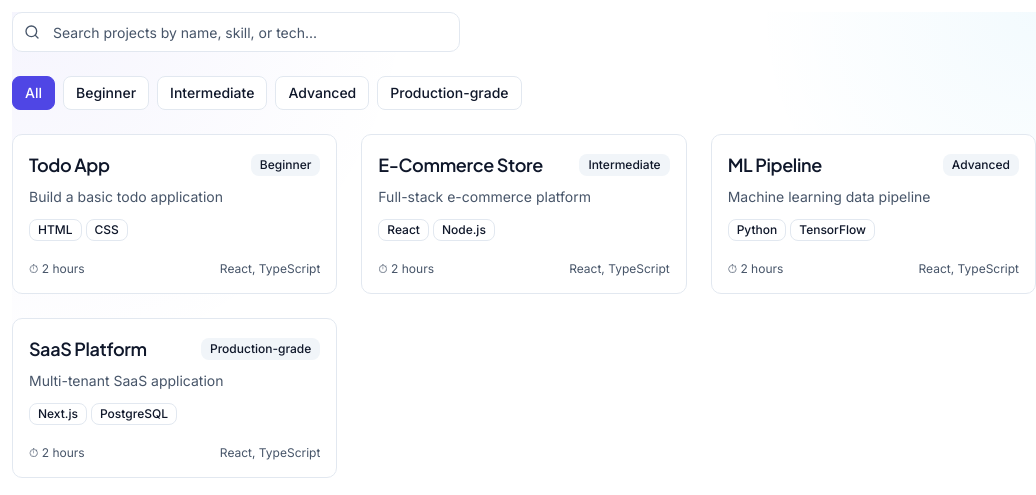
ProjectsHub › Skill-level filtering (Req 8.3, 8.4) › filters to show only Beginner projects when Beginner is selected
The width and height of the screenshot is (1036, 495).
Click the button "Beginner": (106, 93) [63,76,149,110]
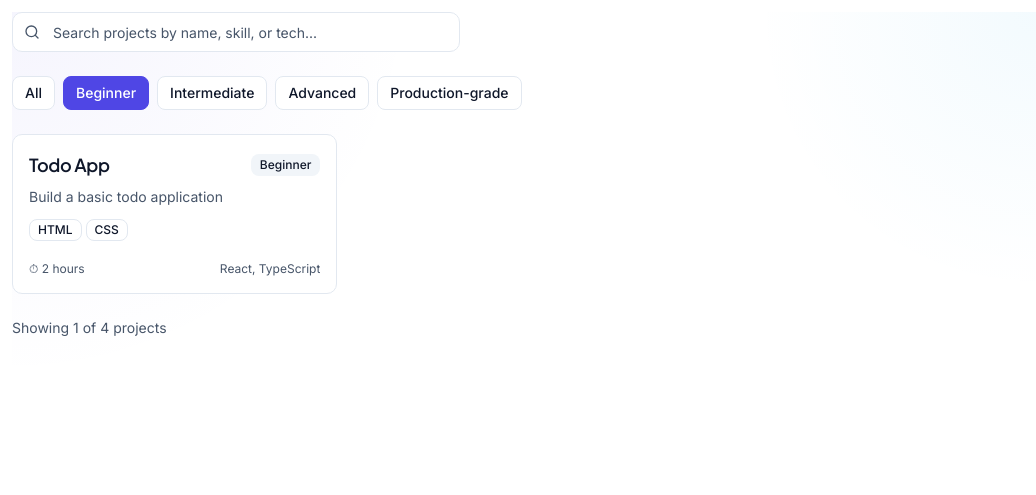
Check: the link "E-Commerce Store" is gone
Check: the link "ML Pipeline" is gone
Check: the link "SaaS Platform" is gone
